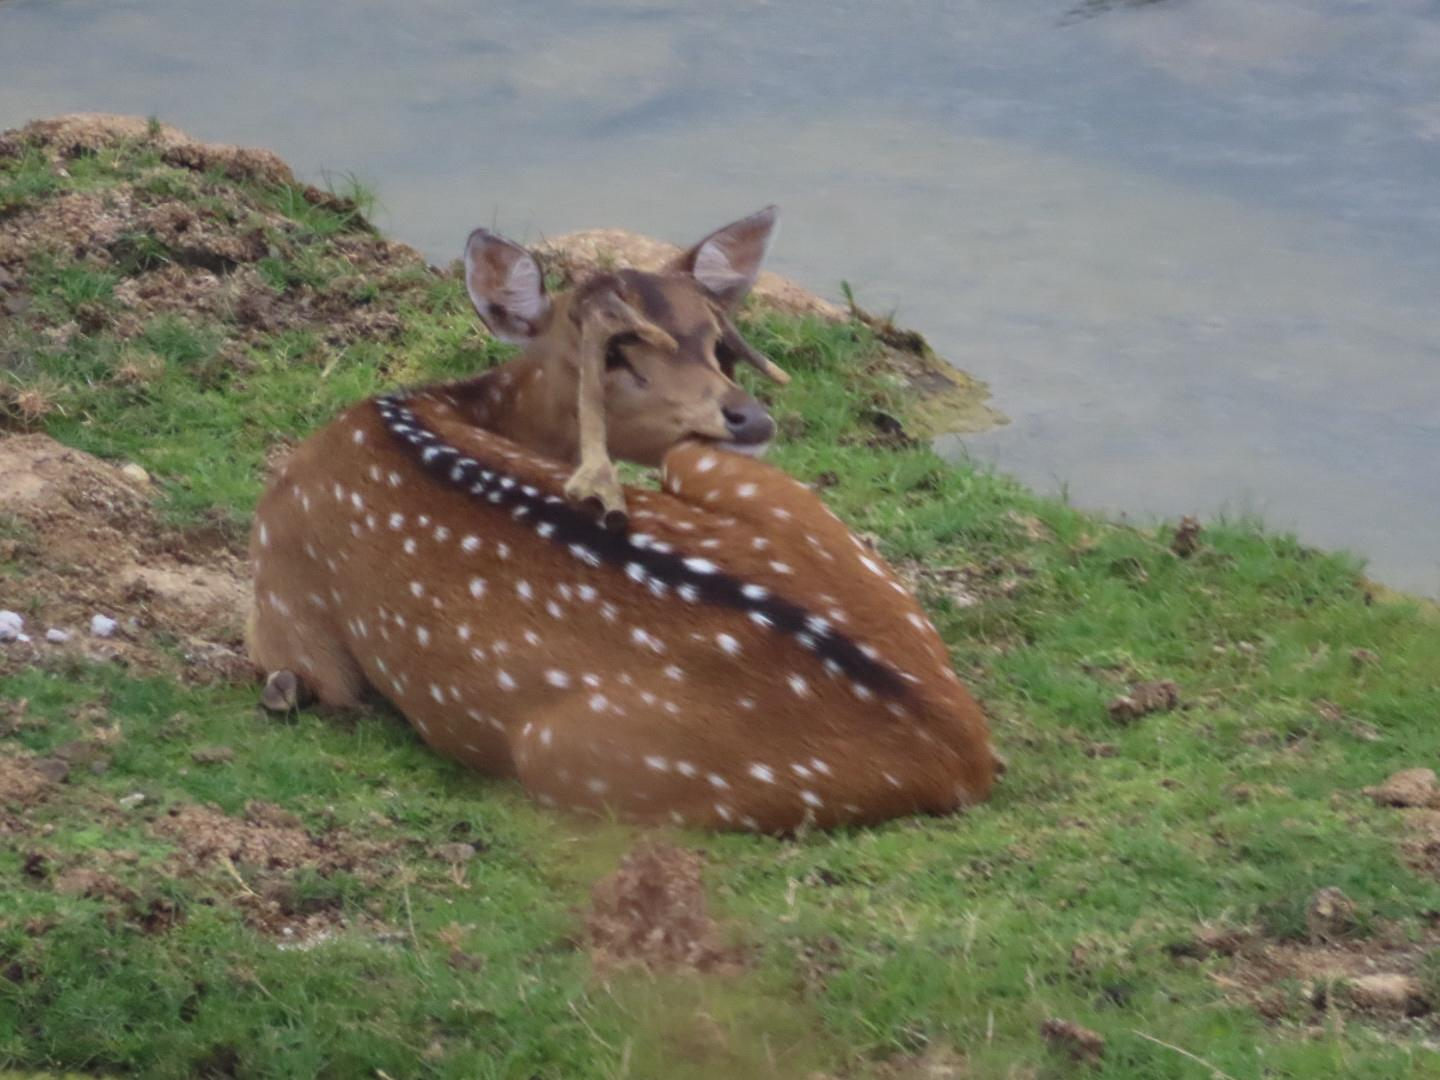Deer: (251, 206, 999, 832)
